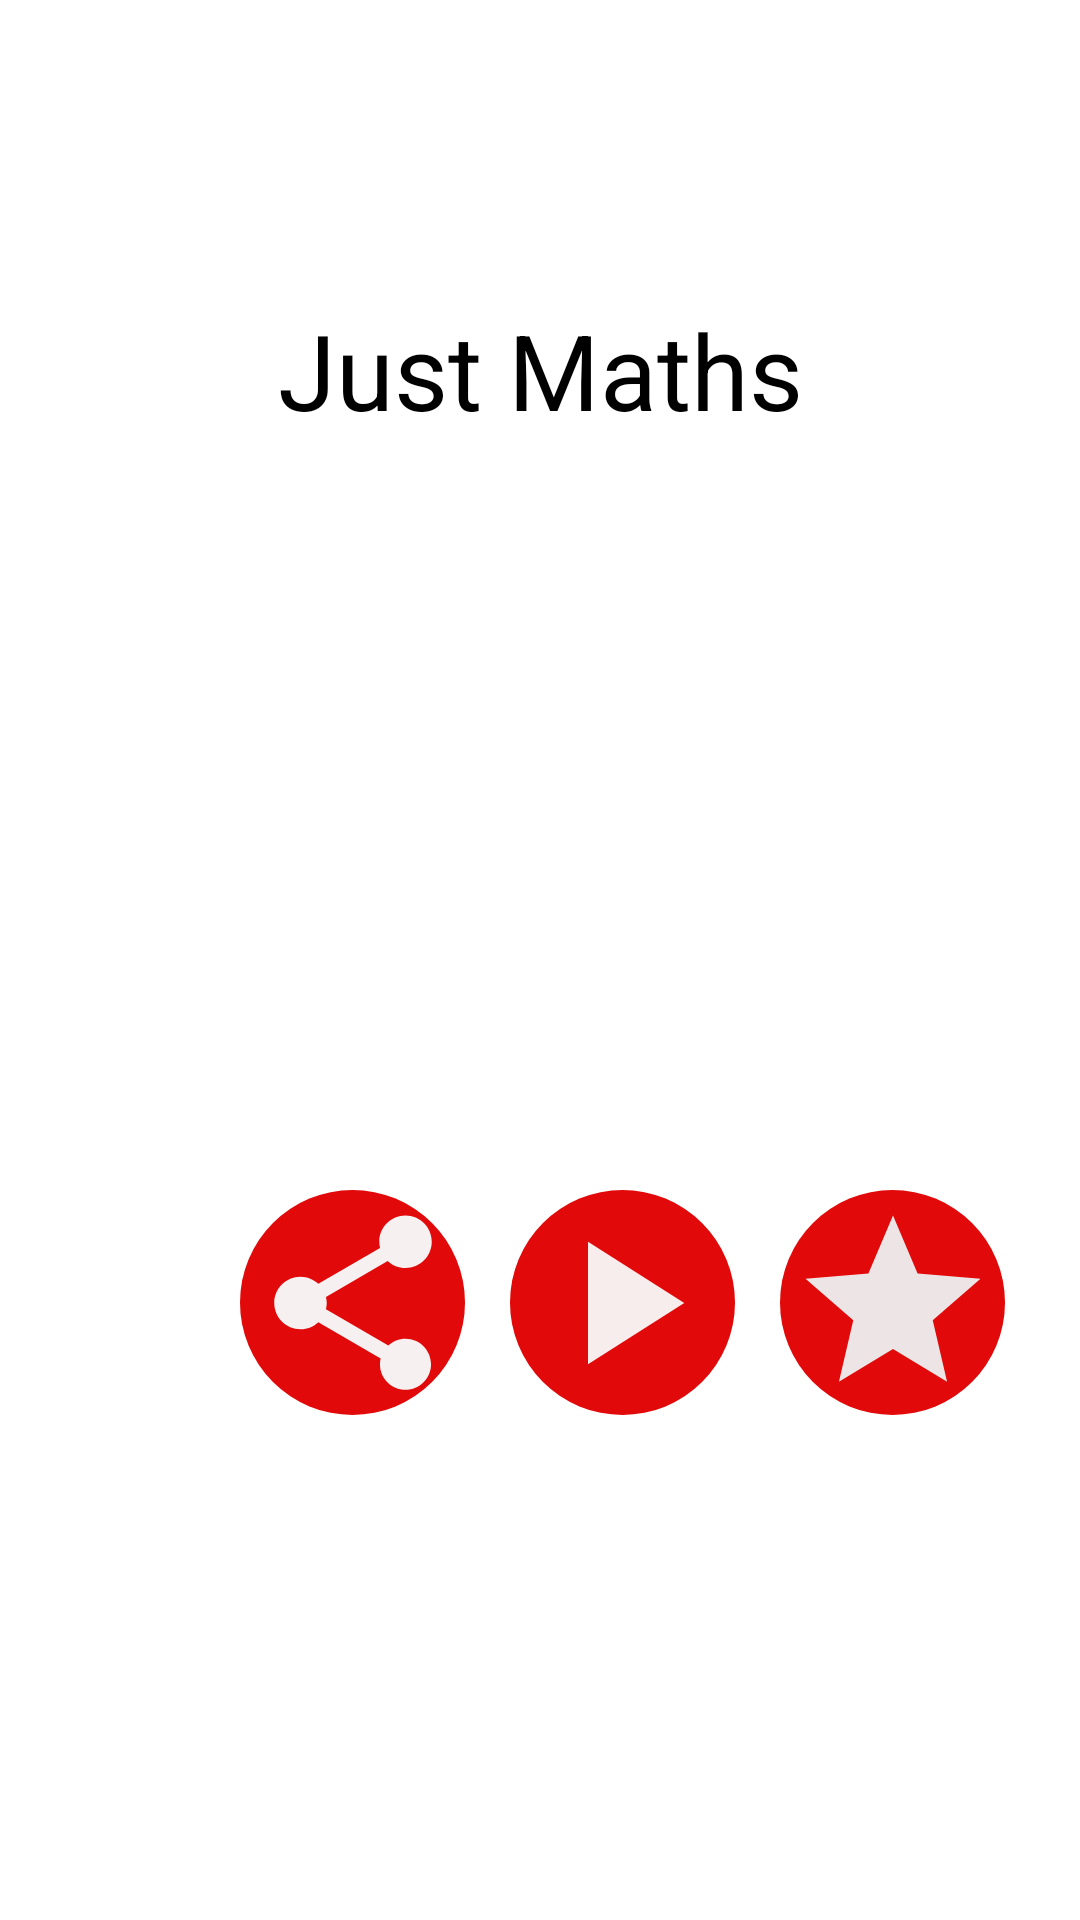

Locate icon controls on the screen. Image size 1080 × 1920, boxes as (x1, y1, x2, y2).
play arrow: (510, 1190, 735, 1415)
share: (240, 1190, 465, 1415)
star: (780, 1190, 1005, 1415)
